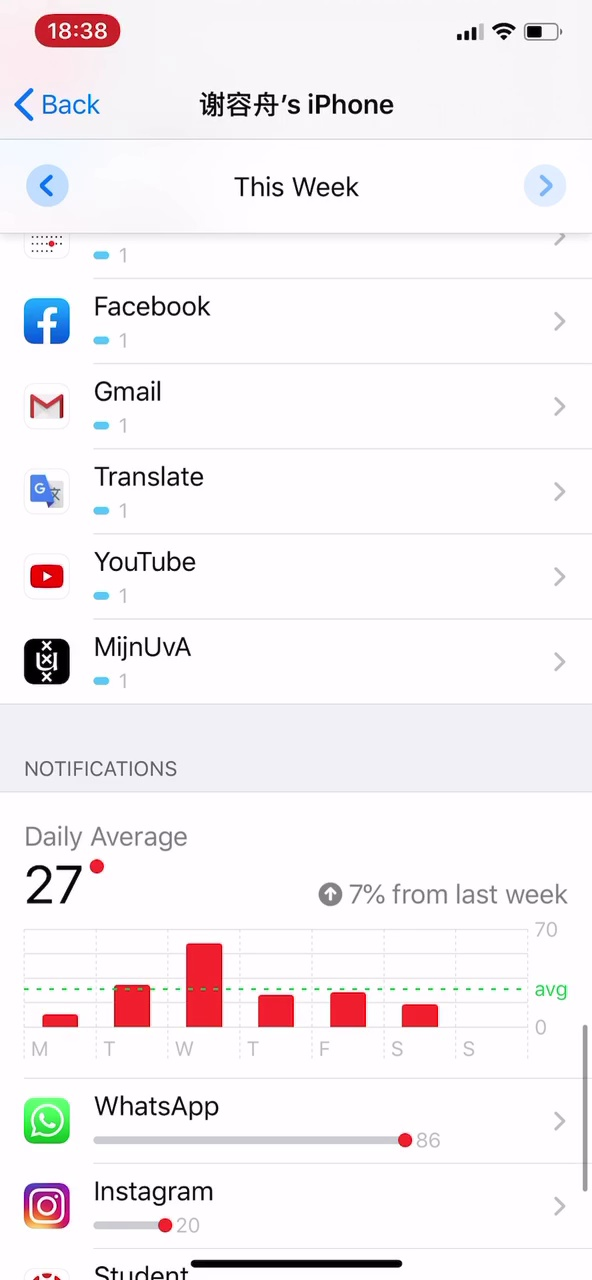not_app: (22, 1079, 476, 1160), (13, 1173, 251, 1242)
not_over: (7, 742, 209, 913)
pick_app: (18, 450, 227, 532), (15, 287, 233, 361), (18, 622, 219, 699), (18, 542, 227, 611), (20, 375, 196, 444)
week: (221, 165, 374, 214)
